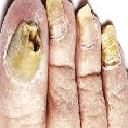Nail Fungal Infection: (18, 23, 46, 54), (103, 40, 120, 68)
